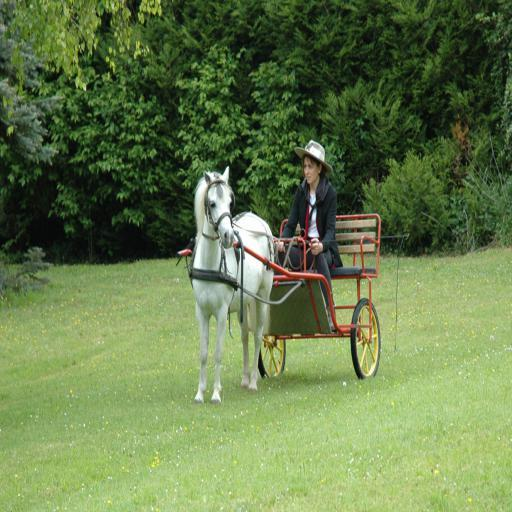horse: (190, 166, 276, 405)
